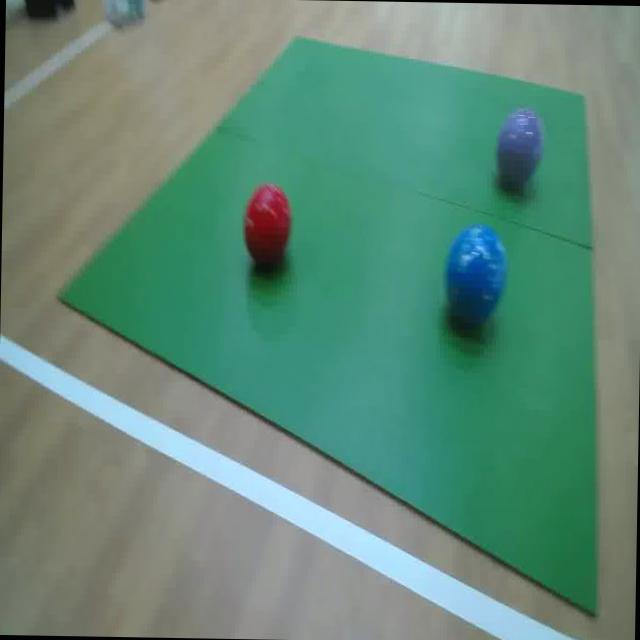blue_ball: (444, 220, 504, 333)
purple_ball: (498, 106, 544, 192)
red_ball: (243, 182, 292, 260)
